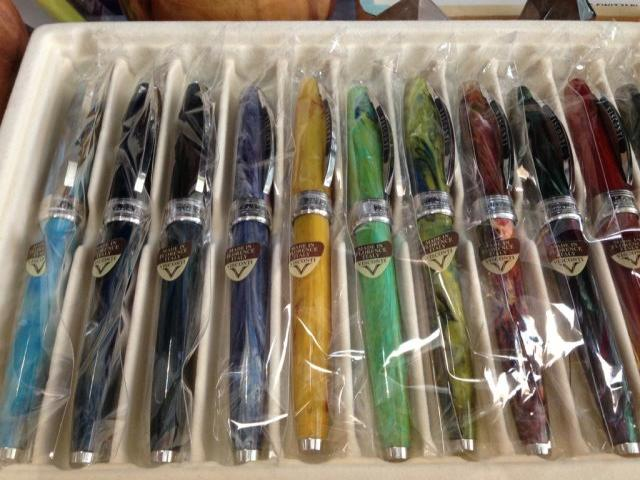PEN: (454, 78, 552, 463), (340, 82, 431, 470), (550, 76, 640, 453), (66, 89, 156, 462), (286, 78, 354, 470), (160, 86, 229, 466), (230, 89, 295, 473)
